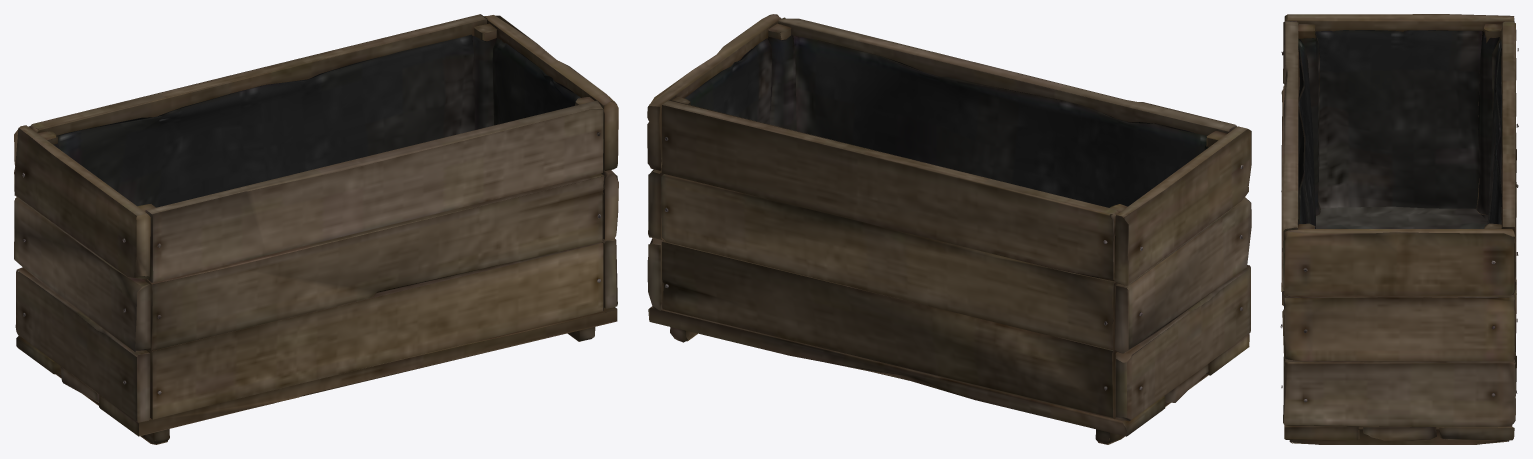
The model's file is ph_planter_box_01.glb.
3 renders of one model, left to right at view 1: azimuth 30°, elevation 25°; view 2: azimuth 150°, elevation 25°; view 3: azimuth 270°, elevation 25°, orthographic. The views are drawn at different scales.
Visible parts, largest first — view 1: planter_box_01; view 2: planter_box_01; view 3: planter_box_01.
Boxes of the visible parts, x1,y1,x2,y2 form: planter_box_01: [14, 14, 618, 444]; planter_box_01: [647, 14, 1251, 444]; planter_box_01: [1280, 14, 1518, 444].
Size of the model in its own units: 0.9137 by 0.4262 by 0.4159.
1 material, 1 textured.
